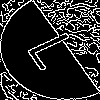L: (25, 25, 92, 73)
